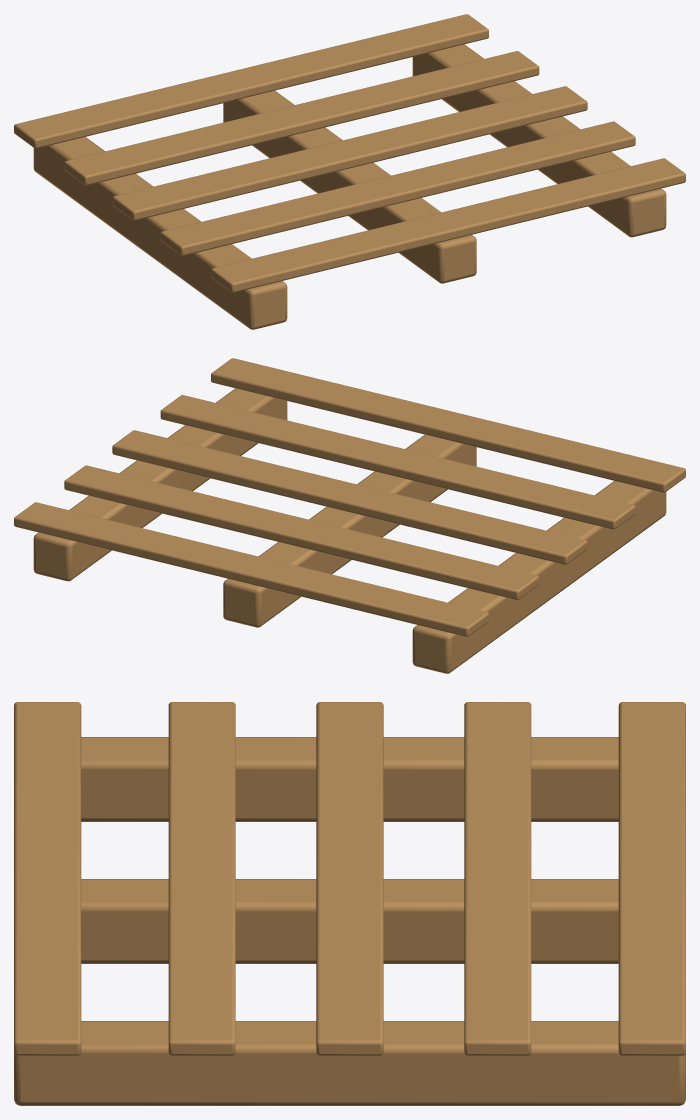
Rendered from pallet.fbx.
3 views of the same model, one above another, from view 1: azimuth 30°, elevation 25°; view 2: azimuth 150°, elevation 25°; view 3: azimuth 270°, elevation 25° (orthographic). The views are drawn at different scales.
Parts seen in each view (by area): view 1: pallet; view 2: pallet; view 3: pallet.
Boxes of the visible parts, bbox=[...] form: pallet: bbox=[14, 14, 685, 329]; pallet: bbox=[14, 358, 685, 673]; pallet: bbox=[14, 702, 685, 1105].
Bounding box in the file's own units: 1.2 × 0.1325 × 1.
